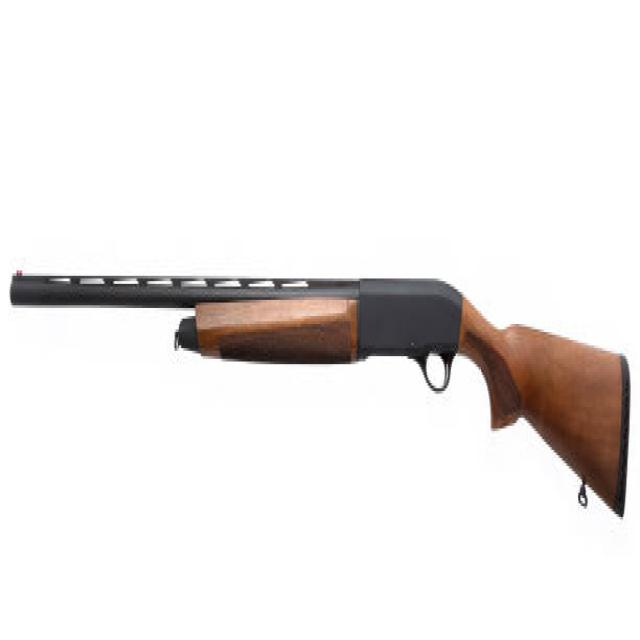rifle: (9, 261, 634, 536)
